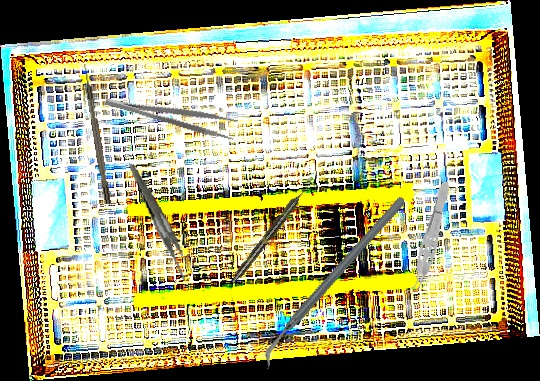Chopper: (223, 194, 445, 371)
Dressing Forceps: (128, 157, 197, 288), (104, 85, 239, 142)
Handpiece: (228, 183, 312, 286)
Hook Surgical: (81, 63, 112, 205)
Tissue Forceps: (403, 179, 456, 299)
